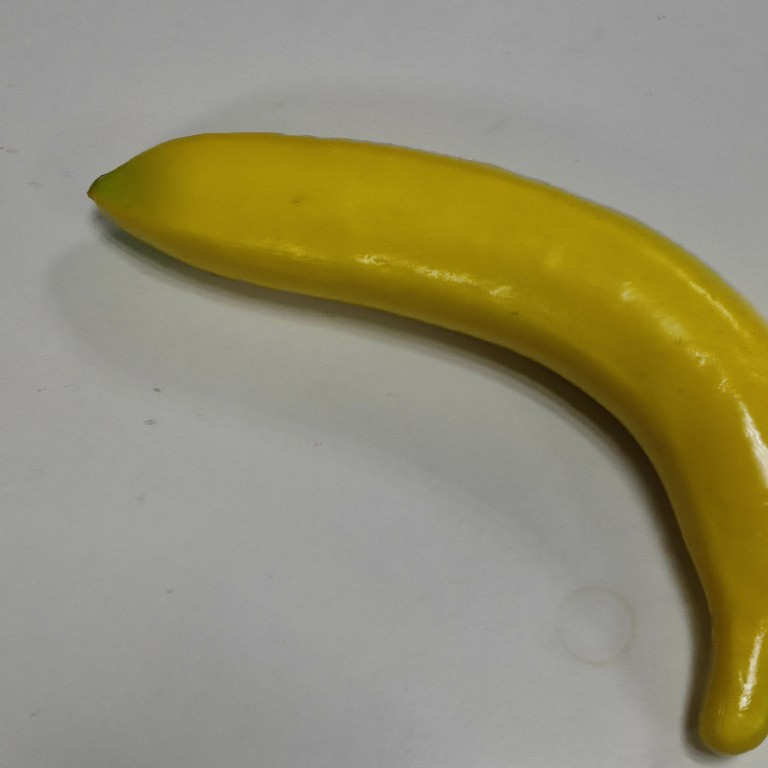fruit_banana: (81, 129, 768, 758)
